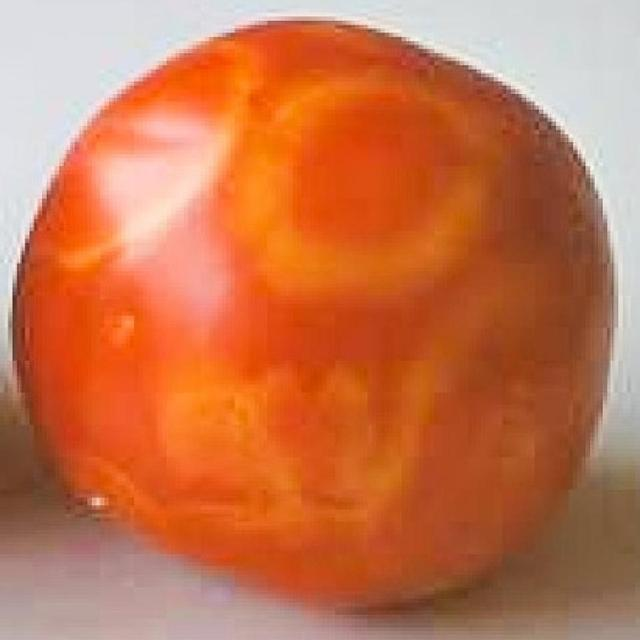Spotted wilt Virus Fruit: (8, 9, 411, 404)
